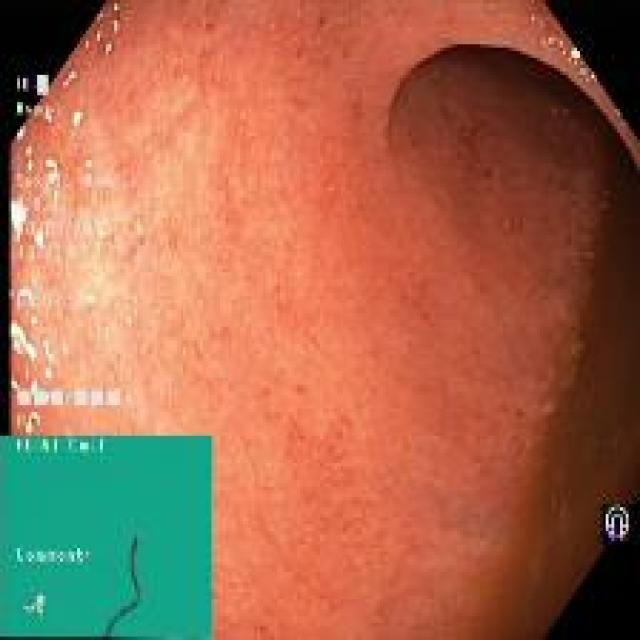ulcerative-colitis-grade-1: (11, 3, 600, 637)
